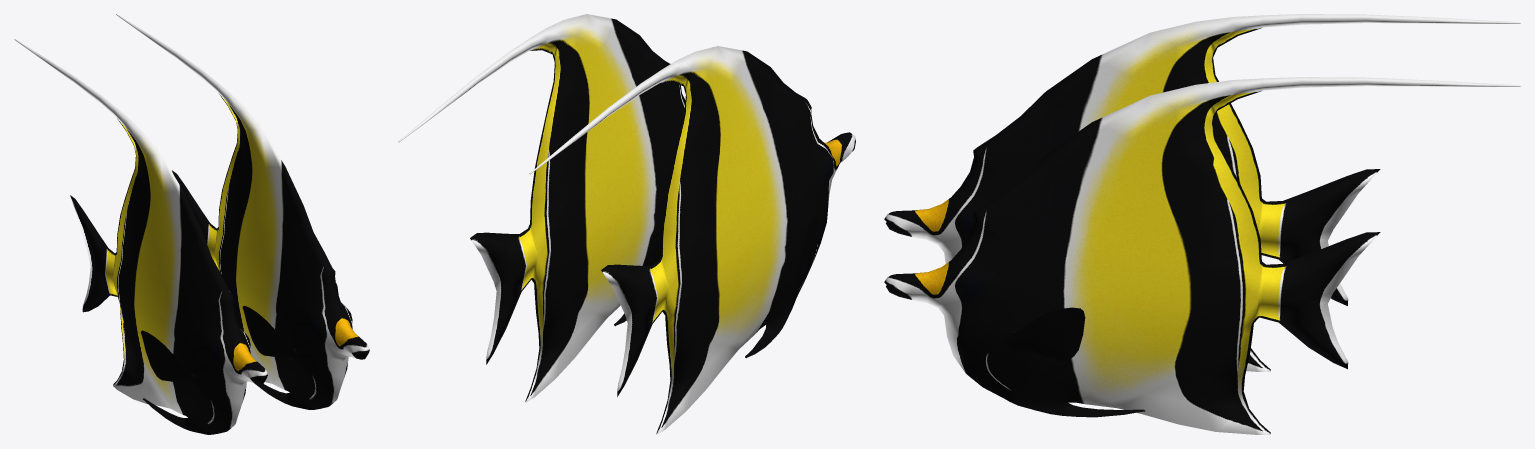
The model's file is moorish_idol.glb.
The picture shows the model from 3 angles, left to right: view 1: azimuth 30°, elevation 25°; view 2: azimuth 150°, elevation 25°; view 3: azimuth 270°, elevation 25°; orthographic projection. The views are drawn at different scales.
Parts seen in each view (by area): view 1: Object_162; view 2: Object_162; view 3: Object_162.
Boxes of the visible parts, <box> form: Object_162: <box>14,14,369,434</box>; Object_162: <box>398,14,855,434</box>; Object_162: <box>884,14,1520,434</box>.
Bounding box in the file's own units: 0.2294 × 0.3175 × 0.512.
Materials: 1 (1 with a texture image).
